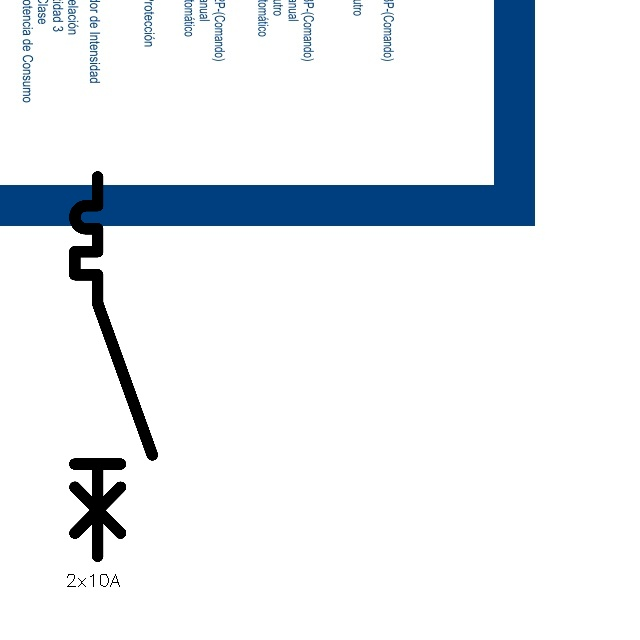interruptor_termomagnetico: (65, 167, 162, 565)
